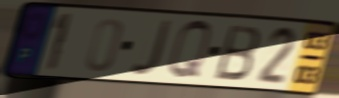0: (84, 16, 125, 74)
1: (45, 11, 75, 74)
2: (256, 25, 298, 87)
B: (212, 23, 262, 83)
J: (128, 18, 175, 78)
Q: (166, 18, 213, 83)
